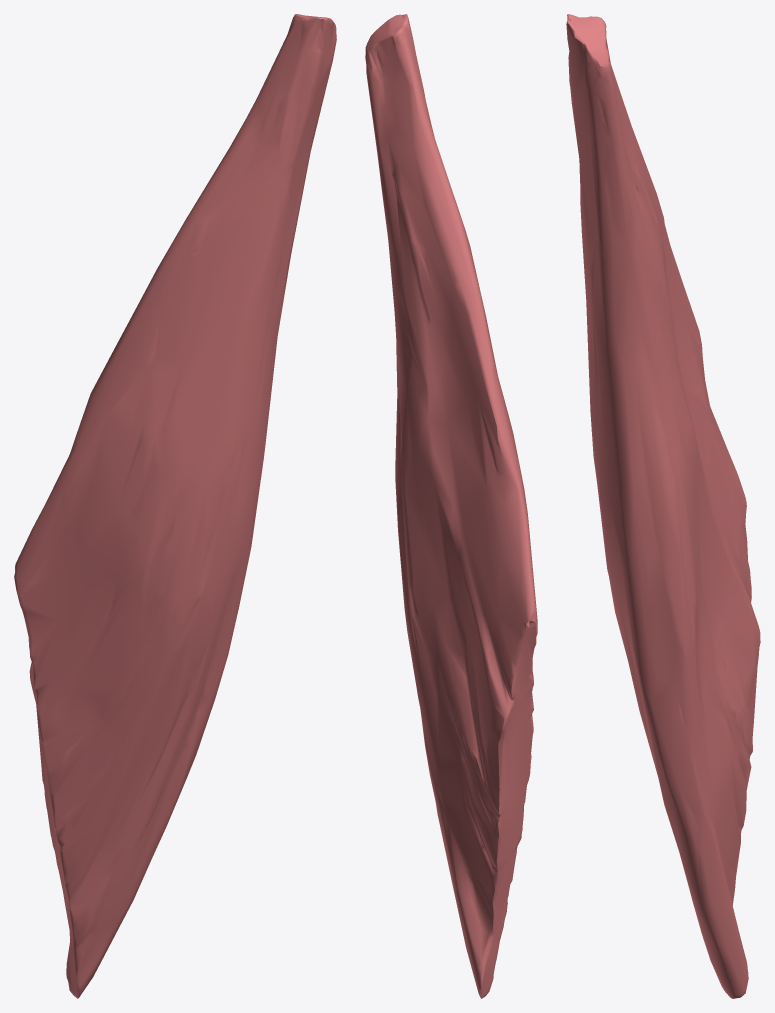
3 renders of one model, left to right at view 1: azimuth 30°, elevation 25°; view 2: azimuth 150°, elevation 25°; view 3: azimuth 270°, elevation 25°, orthographic. The views are drawn at different scales.
Parts seen in each view (by area): view 1: FJ1402; view 2: FJ1402; view 3: FJ1402.
Boxes of the visible parts, box(x1,y1,x2,y2) form: FJ1402: box(14, 14, 336, 998); FJ1402: box(365, 14, 537, 998); FJ1402: box(566, 14, 760, 998).
Bounding box in the file's own units: 0.0767 × 0.2879 × 0.0473.
